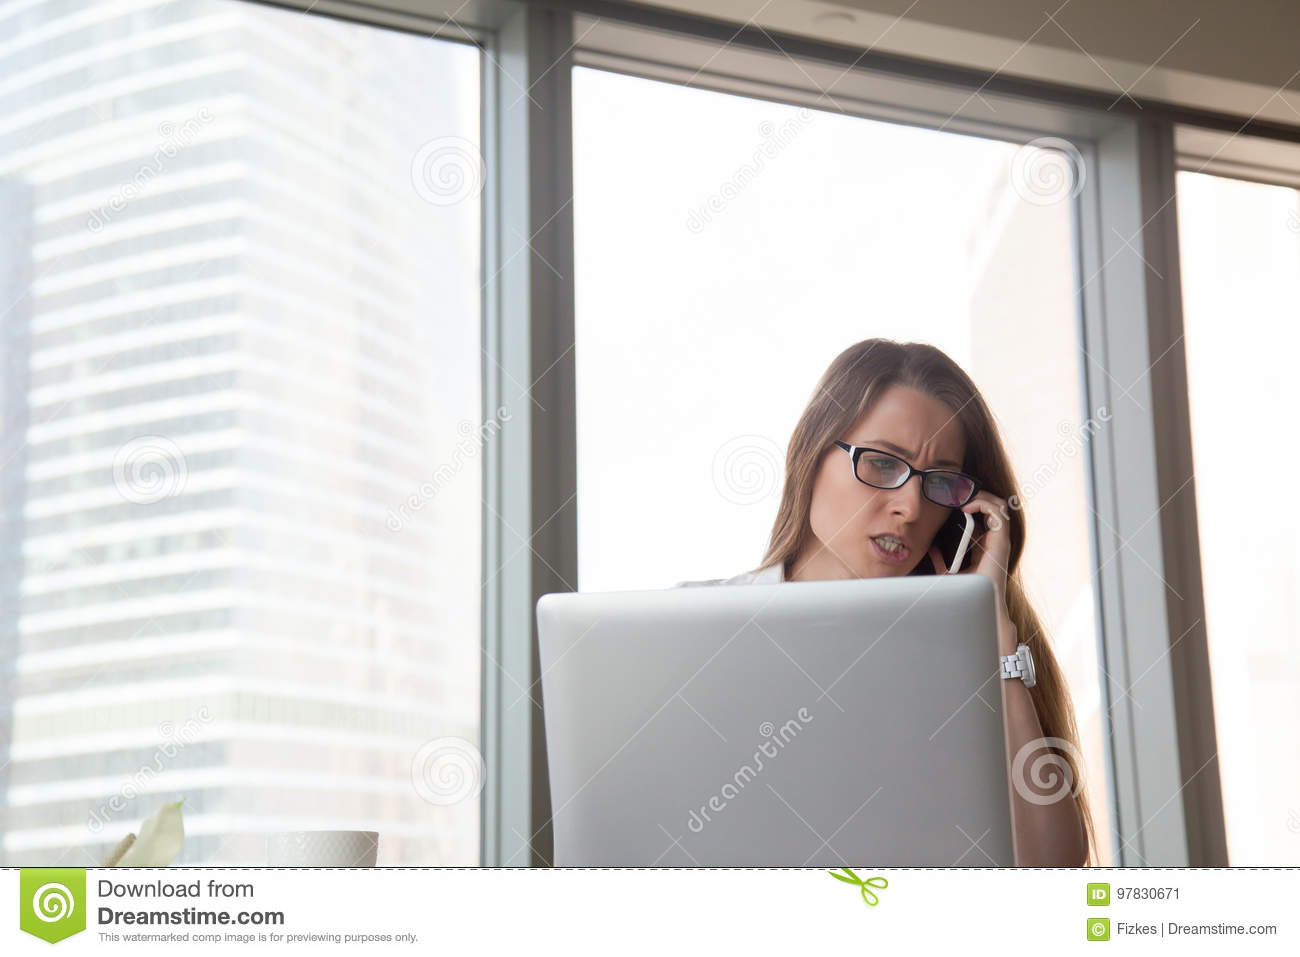talk: (841, 436, 1016, 646)
